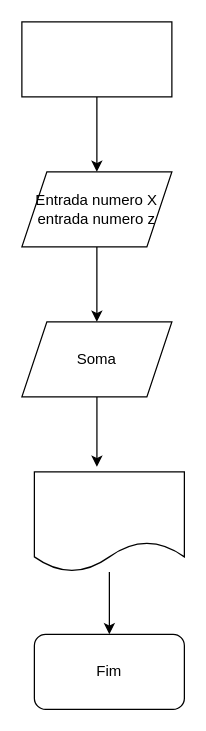
The diagram is 206 pixels wide and 731 high, and some of its shapes have lost their labels. Each missing label, with the box of its shape:
Inicio: (21, 21, 172, 97)
X + Y: (33, 471, 184, 572)
